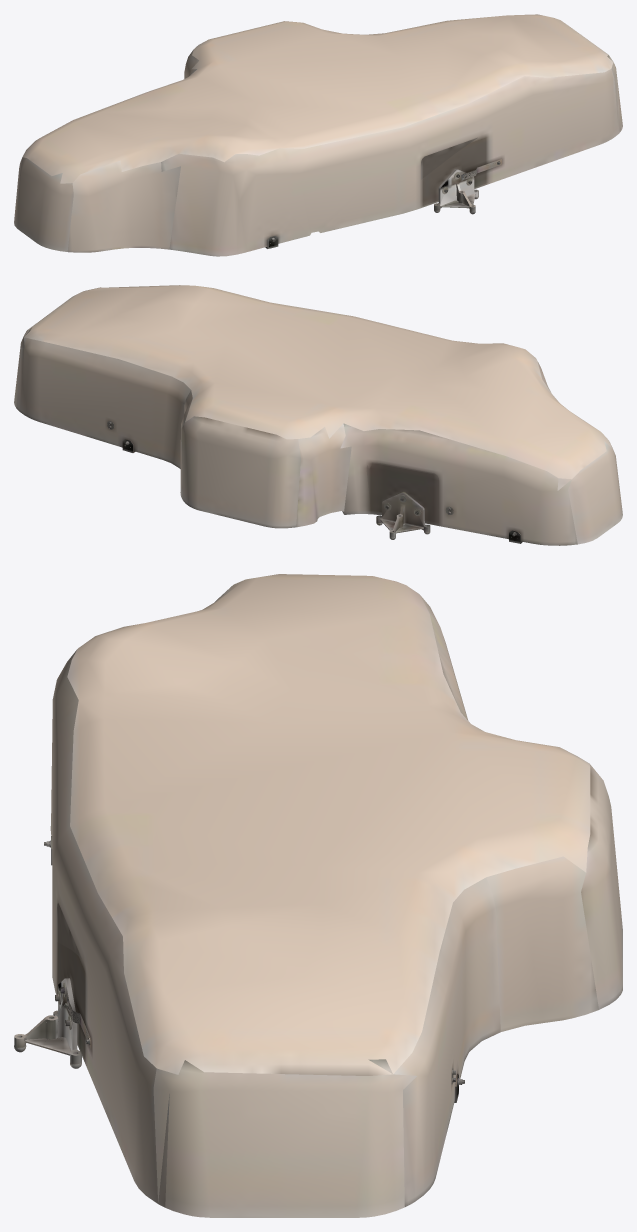
The model's file is MHS_DebrisShield.dae.
3 renders of one model, top to bottom at view 1: azimuth 30°, elevation 25°; view 2: azimuth 150°, elevation 25°; view 3: azimuth 270°, elevation 25°, orthographic. The views are drawn at different scales.
Visible parts, largest first — view 1: Object_0; view 2: Object_0; view 3: Object_0.
Boxes of the visible parts, x1=… form: Object_0: x1=14, y1=14, x2=622, y2=256; Object_0: x1=14, y1=285, x2=622, y2=545; Object_0: x1=14, y1=574, x2=622, y2=1217.
Size of the model in its own units: 1.31 by 0.6421 by 0.2461.
Materials: 1 (1 with a texture image).
